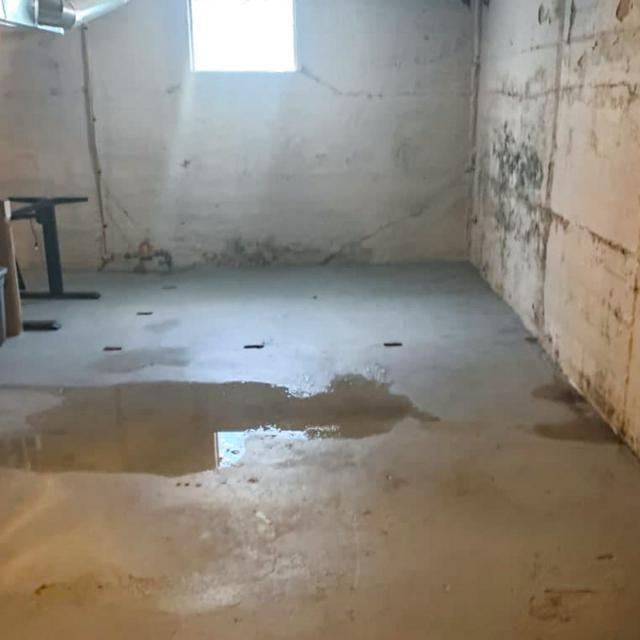water accumulation: (1, 368, 438, 478), (530, 378, 635, 452)
